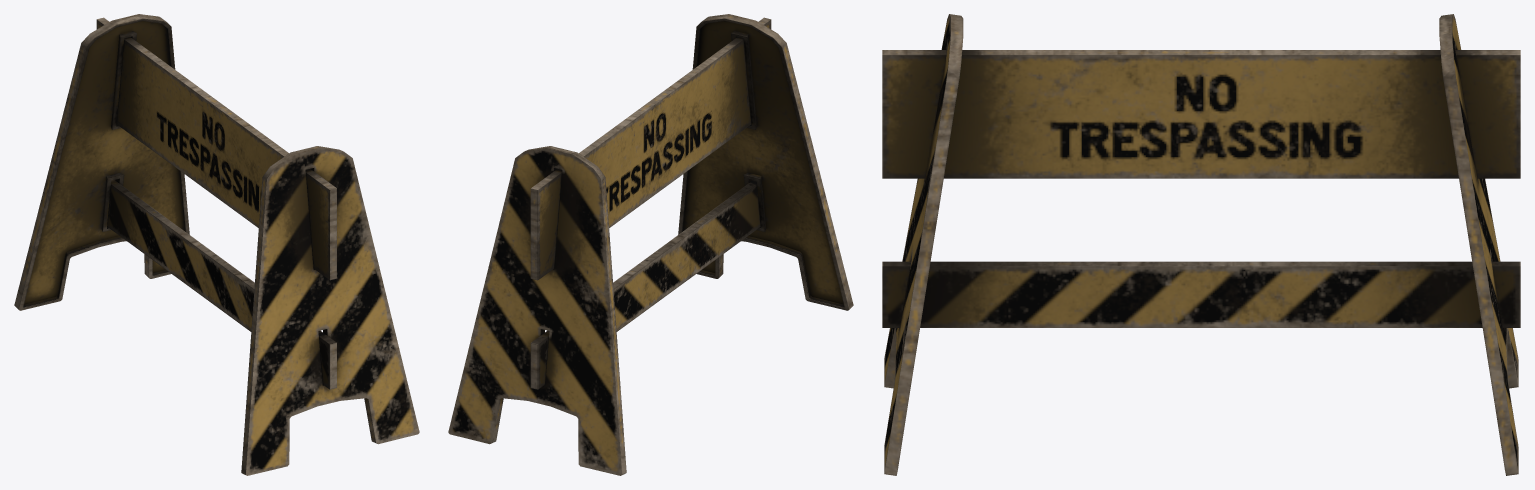
File: Barrier 2.fbx
3 views of the same model, side by side, from view 1: azimuth 30°, elevation 25°; view 2: azimuth 150°, elevation 25°; view 3: azimuth 270°, elevation 25° (orthographic). The views are drawn at different scales.
Visible parts, largest first — view 1: Barrier_2; view 2: Barrier_2; view 3: Barrier_2.
Part boxes in pixels (x1,y1,x2,y2): Barrier_2: [14, 14, 419, 475]; Barrier_2: [448, 14, 853, 475]; Barrier_2: [882, 14, 1520, 475].
Bounding box in the file's own units: 51.04 × 80.62 × 119.
Materials: 1 (1 with a texture image).
